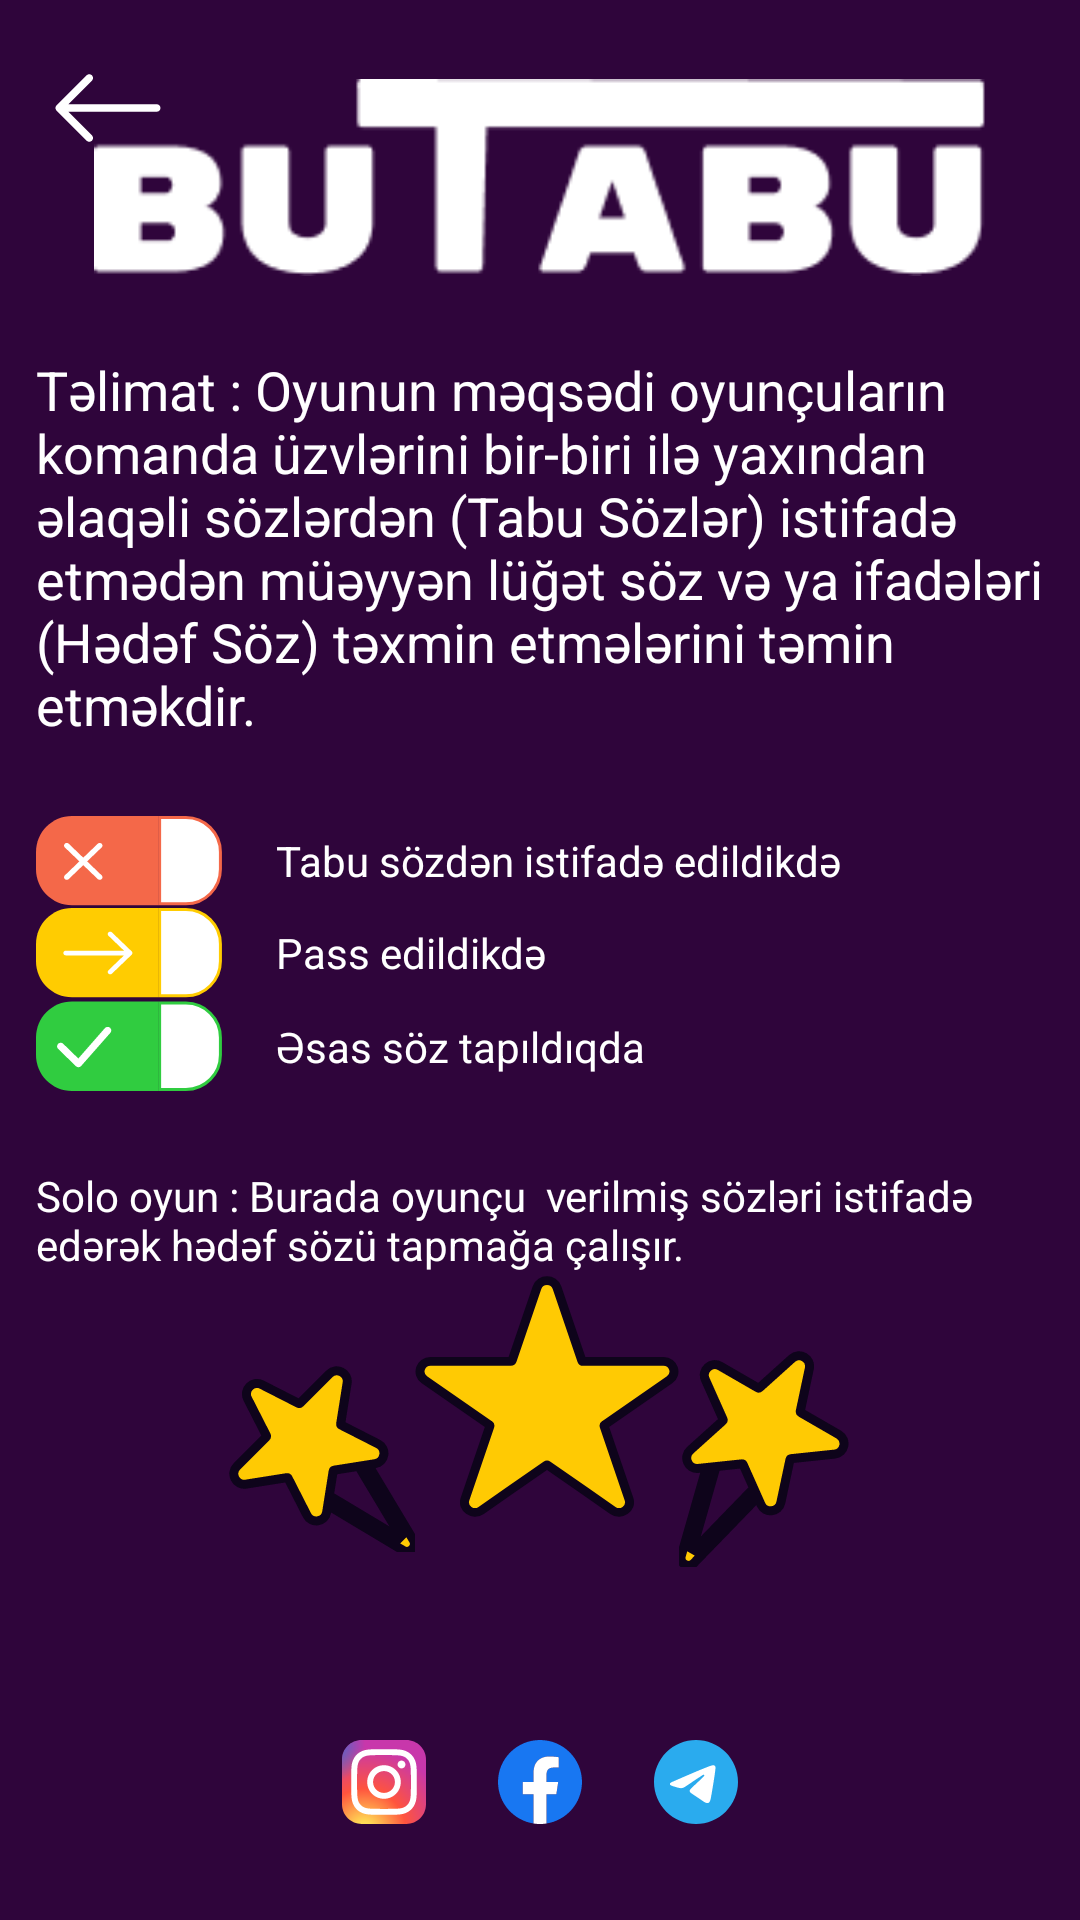

Icon click points for this 1080*1920 phone screenshot, format (x,y):
next: (129,953)
okey: (129,1046)
star: (547,1397), (763,1459), (322,1459)
